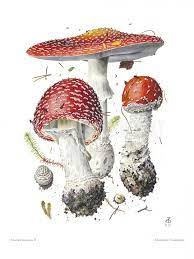Amanita muscaria: (21, 19, 167, 177), (23, 74, 107, 220), (117, 76, 168, 201)
